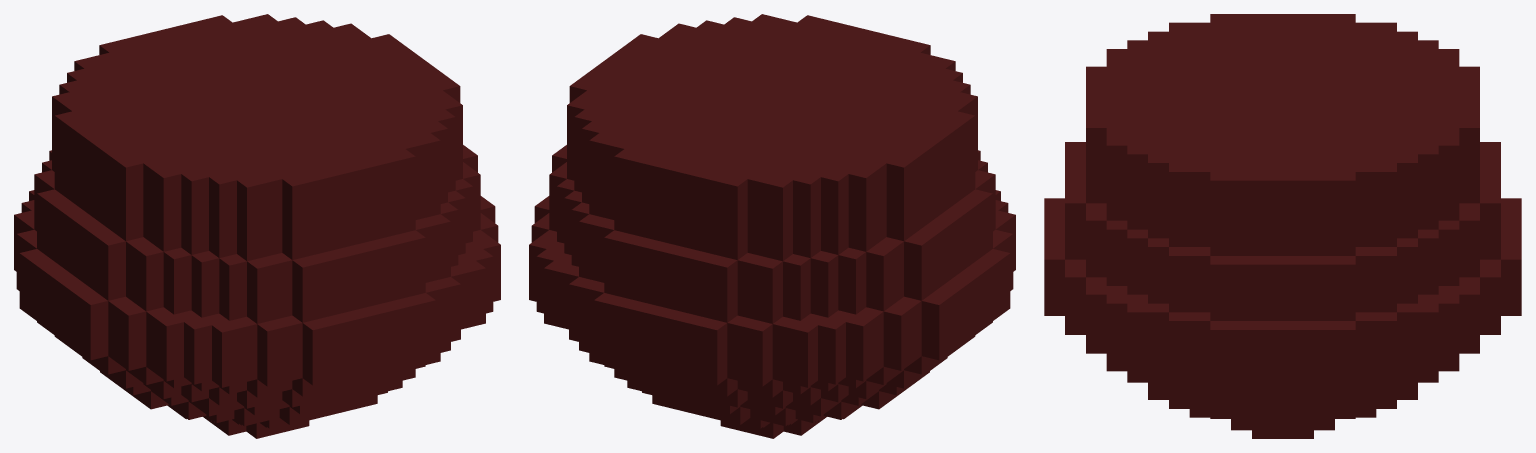
File: wine full.obj
3 views of the same model, side by side, from view 1: azimuth 30°, elevation 25°; view 2: azimuth 150°, elevation 25°; view 3: azimuth 270°, elevation 25° (orthographic). The views are drawn at different scales.
Size of the model in its own units: 23 by 17 by 23.
Materials: 1 (1 with a texture image).
